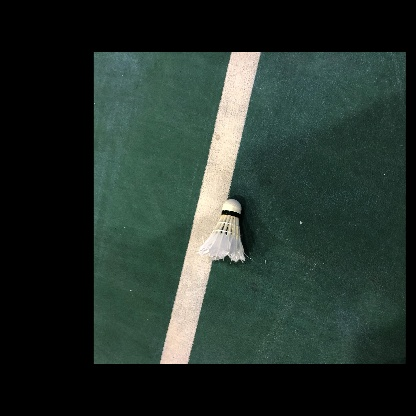ball_single: (198, 199, 245, 262)
